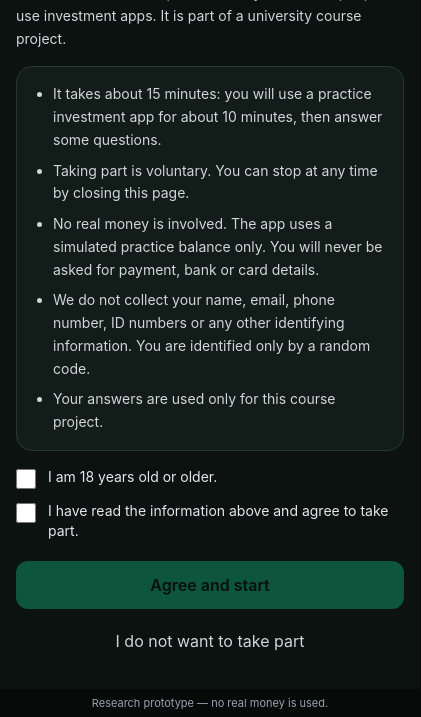
Test: consent › declining ends politely and creates no record
(page scrolled)
Click the button "I do not want to take part".
click(210, 641)  # box [16,617,404,665]
(page scrolled)
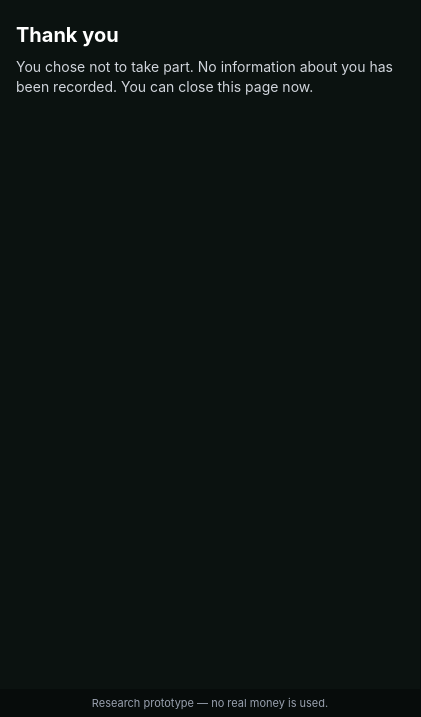
Expected: the text "No information about you has been recorded" is shown, [16,58,393,95]
